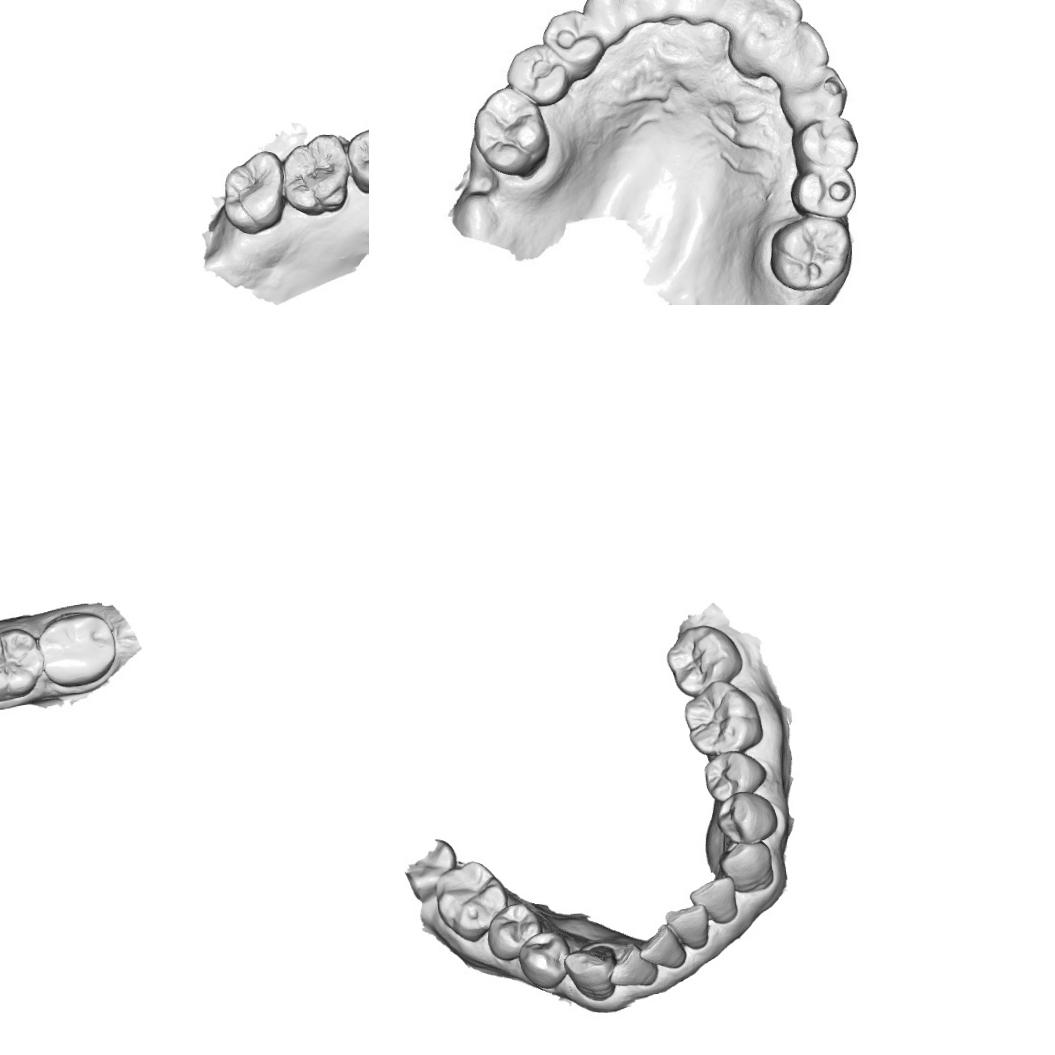canine: (562, 938, 621, 1004), (716, 837, 776, 895), (793, 64, 850, 124), (588, 0, 634, 33)
incisor: (766, 25, 826, 79), (686, 872, 740, 928), (606, 940, 660, 990), (635, 922, 687, 972), (662, 900, 712, 952), (739, 0, 801, 40), (685, 0, 748, 30), (629, 0, 684, 28)
molar: (680, 676, 766, 760), (431, 858, 510, 946), (36, 609, 118, 690), (662, 620, 745, 699), (278, 131, 351, 218), (220, 148, 287, 236), (476, 90, 548, 170), (778, 218, 845, 283), (0, 625, 43, 704)
premolar: (712, 788, 780, 847), (484, 900, 543, 963), (700, 748, 768, 802), (516, 928, 572, 992), (547, 13, 602, 77), (508, 46, 564, 100), (798, 167, 858, 216), (799, 120, 856, 168), (345, 127, 369, 196)
